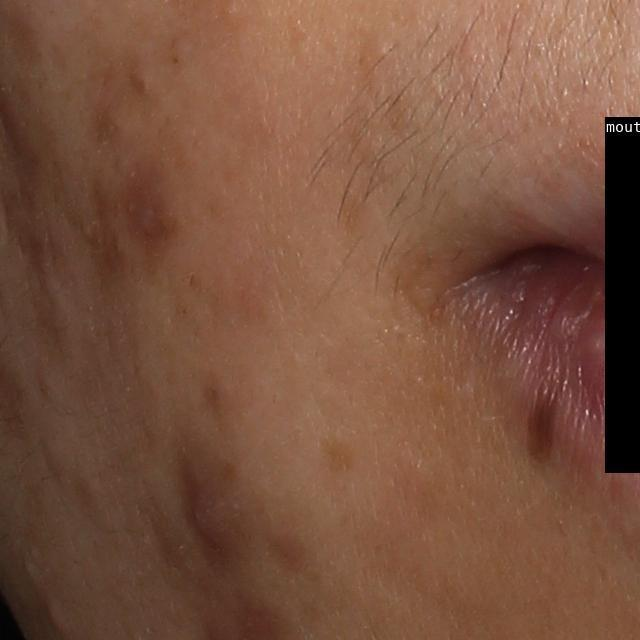nevus: (519, 387, 567, 462)
